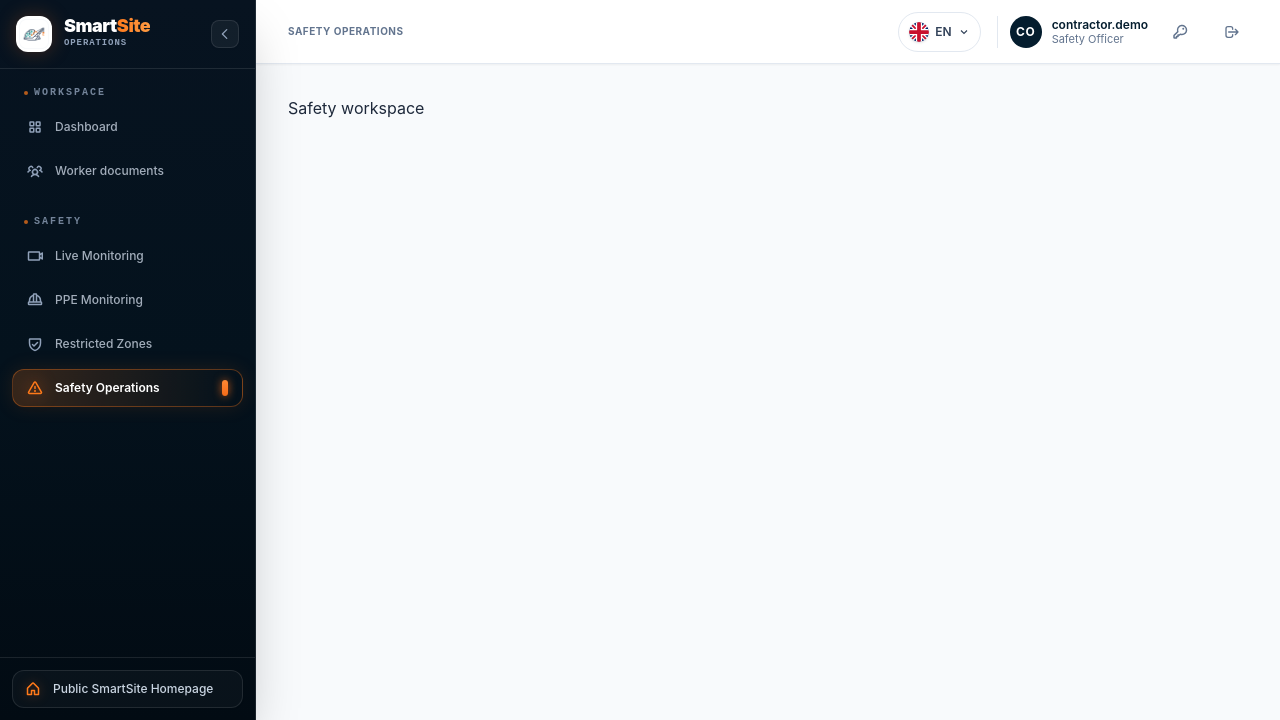
Test: keeps Safety navigation scoped and opens the password action from main
Check: the button "Dashboard" is shown, box [12,108,243,146]
Check: the button "Live Monitoring" is shown, box [12,237,243,275]
Click the button named "Change password".
click(1180, 32)  # box [1164,16,1196,48]
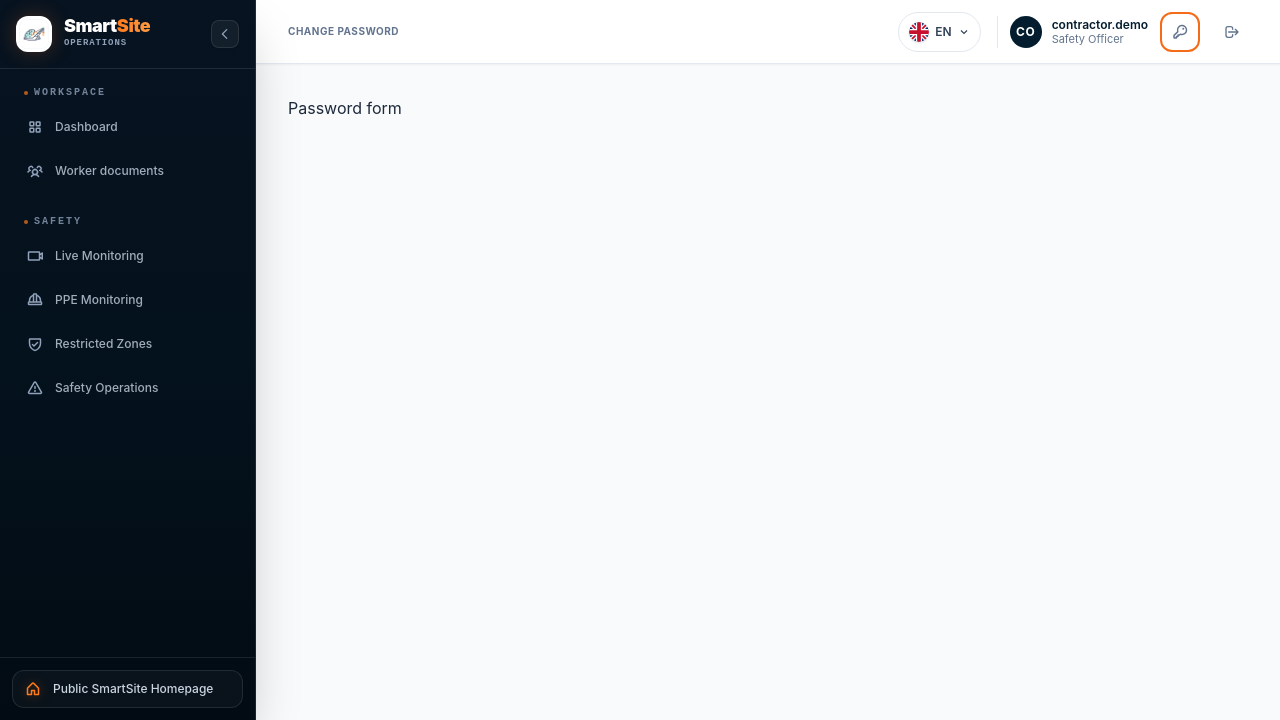
Check: the heading "Password form" is shown, box [288,98,402,118]
